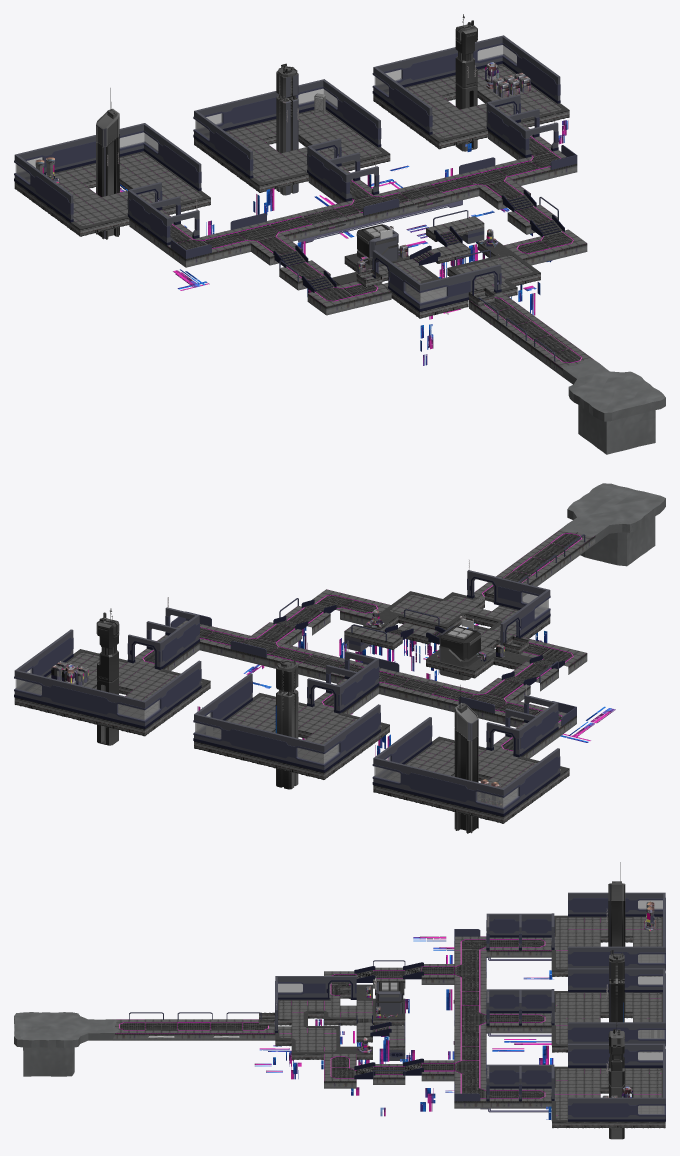
The model's file is Main.FBX.
3 views of the same model, one above another, from view 1: azimuth 30°, elevation 25°; view 2: azimuth 150°, elevation 25°; view 3: azimuth 270°, elevation 25° (orthographic). The views are drawn at different scales.
Parts seen in each view (by area): view 1: StartArea, Highlights, S15, S12, S19, WallCorner002, Wall018, Wall015, WallCorner011, Wall012, S13, WallCorner007 (+32 smaller); view 2: StartArea, S15, S12, S19, Highlights, Wall015, Wall012, Wall018, S13, WallCorner006, WallCorner008, WallCorner010 (+38 smaller); view 3: StartArea, Highlights, Wall019, Wall014, S19, Wall020, Wall017, Wall016, Wall013, S15, S12, S13 (+42 smaller).
Boxes of the visible parts, bbox=[...] form: StartArea: bbox=[561, 359, 665, 454]; Highlights: bbox=[119, 120, 568, 365]; S15: bbox=[96, 88, 119, 239]; S12: bbox=[276, 63, 298, 195]; S19: bbox=[455, 14, 477, 151]; WallCorner002: bbox=[400, 271, 452, 311]; Wall018: bbox=[406, 47, 457, 86]; Wall015: bbox=[227, 91, 278, 130]; WallCorner011: bbox=[473, 35, 521, 73]; Wall012: bbox=[47, 135, 95, 172]; S13: bbox=[356, 224, 398, 265]; WallCorner007: bbox=[119, 123, 163, 163]; StartArea: bbox=[561, 483, 665, 566]; S15: bbox=[454, 685, 478, 833]; S12: bbox=[276, 658, 298, 789]; S19: bbox=[96, 608, 119, 745]; Highlights: bbox=[197, 623, 615, 760]; Wall015: bbox=[226, 721, 292, 764]; Wall012: bbox=[405, 765, 471, 808]; Wall018: bbox=[47, 677, 113, 720]; S13: bbox=[439, 626, 481, 680]; WallCorner006: bbox=[470, 775, 522, 816]; WallCorner008: bbox=[291, 732, 343, 772]; WallCorner010: bbox=[112, 688, 163, 728]; StartArea: bbox=[14, 1012, 118, 1076]; Highlights: bbox=[254, 936, 631, 1119]; Wall019: bbox=[568, 1097, 632, 1121]; Wall014: bbox=[568, 946, 632, 968]; S19: bbox=[608, 1020, 624, 1139]; Wall020: bbox=[568, 1043, 632, 1067]; Wall017: bbox=[568, 968, 632, 992]; Wall016: bbox=[568, 1022, 632, 1043]; Wall013: bbox=[568, 892, 632, 916]; S15: bbox=[608, 862, 625, 946]; S12: bbox=[609, 950, 624, 1022]; S13: bbox=[375, 981, 404, 1025].
Size of what is drawn, in the model's own units: 6008 by 1907 by 8018.
